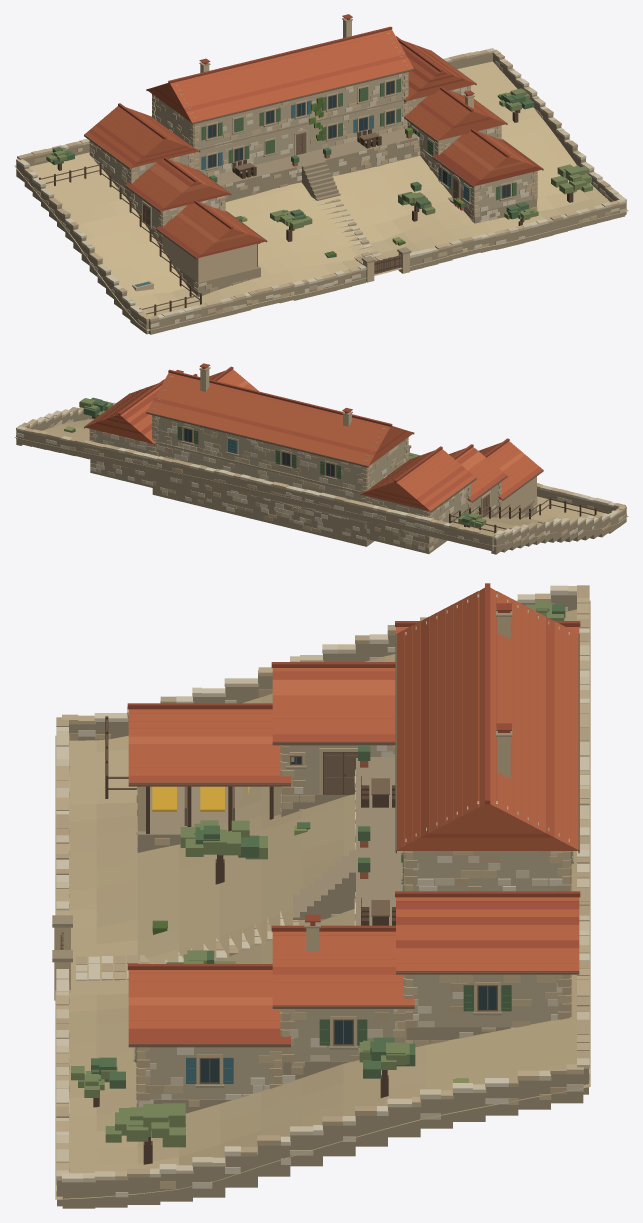
The model's file is kucukcetmi-surek-kulubu.glb.
3 renders of one model, top to bottom at view 1: azimuth 30°, elevation 25°; view 2: azimuth 150°, elevation 25°; view 3: azimuth 270°, elevation 25°, orthographic. The views are drawn at different scales.
Parts seen in each view (by area): view 1: toprak, kiremit1, tas_koyu, tas2, harc, tas3, tas1, ahsap, kiremit2, kiremit4, tas4, zeytin_yaprak (+6 smaller); view 2: kiremit1, tas_koyu, harc, tas2, tas3, tas1, tas4, kiremit2, kiremit4, toprak, ahsap, zeytin_yaprak (+5 smaller); view 3: kiremit1, toprak, tas_koyu, harc, tas2, kiremit4, tas3, kiremit2, tas4, tas1, ahsap, zeytin_yaprak (+6 smaller).
Boxes of the visible parts, x1,y1,x2,y2 form: toprak: [14, 61, 628, 330]; kiremit1: [84, 29, 535, 254]; tas_koyu: [16, 18, 626, 334]; tas2: [24, 20, 619, 321]; harc: [93, 33, 533, 233]; tas3: [17, 50, 613, 327]; tas1: [16, 38, 625, 324]; ahsap: [41, 50, 543, 314]; kiremit2: [88, 18, 492, 258]; kiremit4: [118, 14, 542, 229]; tas4: [20, 33, 626, 327]; zeytin_yaprak: [46, 88, 592, 229]; kiremit1: [84, 369, 539, 511]; tas_koyu: [16, 367, 626, 554]; harc: [93, 376, 498, 535]; tas2: [16, 369, 626, 548]; tas3: [21, 407, 626, 547]; tas1: [16, 381, 622, 544]; tas4: [17, 376, 618, 551]; kiremit2: [153, 367, 542, 507]; kiremit4: [95, 363, 509, 482]; toprak: [14, 419, 628, 546]; ahsap: [84, 393, 609, 532]; zeytin_yaprak: [79, 389, 486, 527]; kiremit1: [128, 587, 579, 1028]; toprak: [55, 600, 590, 1199]; tas_koyu: [52, 595, 588, 1208]; harc: [138, 594, 569, 1099]; tas2: [54, 593, 589, 1188]; kiremit4: [127, 583, 580, 1044]; tas3: [56, 585, 589, 1177]; kiremit2: [128, 611, 554, 974]; tas4: [56, 585, 589, 1197]; tas1: [56, 586, 589, 1195]; ahsap: [61, 633, 579, 1083]; zeytin_yaprak: [71, 600, 564, 1147].
Size of the model in its own units: 54 by 17.43 by 26.15.
